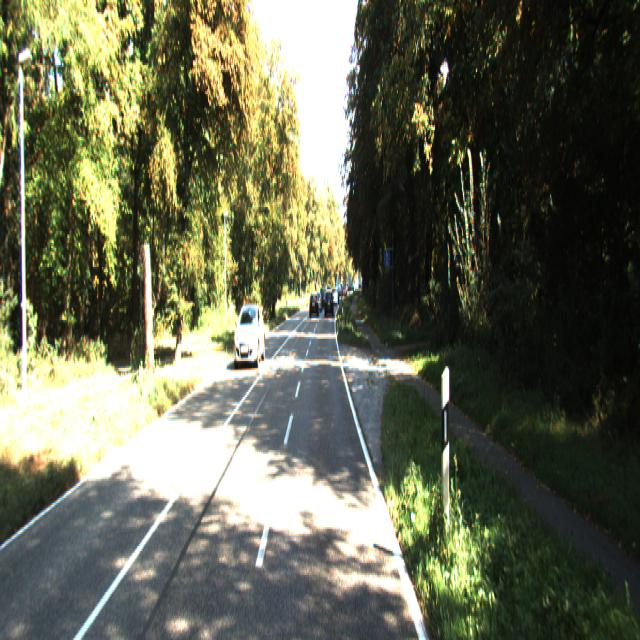Car: (233, 302, 266, 369)
